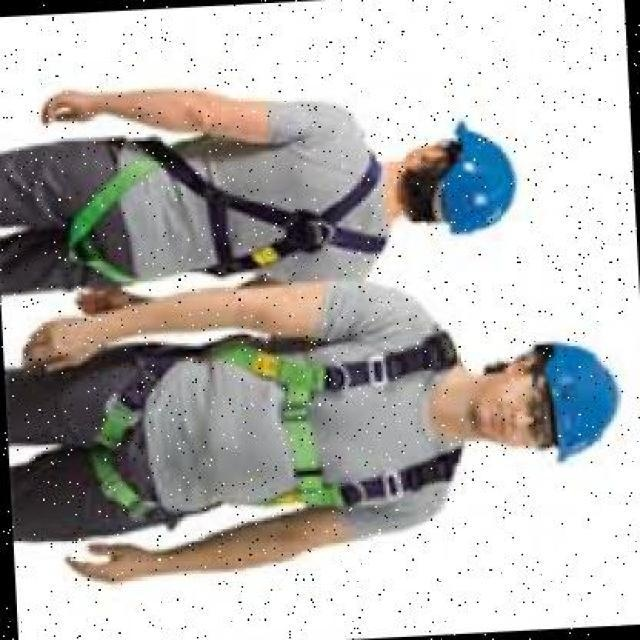Arnes_seguridad: (78, 322, 467, 533), (72, 125, 388, 294)
